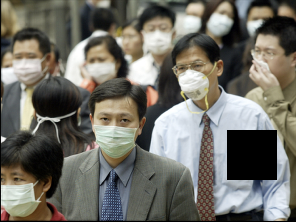with_mask: (90, 107, 139, 159), (0, 168, 43, 216), (174, 57, 217, 98), (11, 47, 46, 84), (141, 20, 173, 56), (84, 52, 118, 84), (206, 5, 235, 37), (243, 11, 272, 38), (181, 7, 202, 33), (0, 60, 16, 85)
without_mask: (250, 41, 291, 81), (120, 30, 142, 54)
